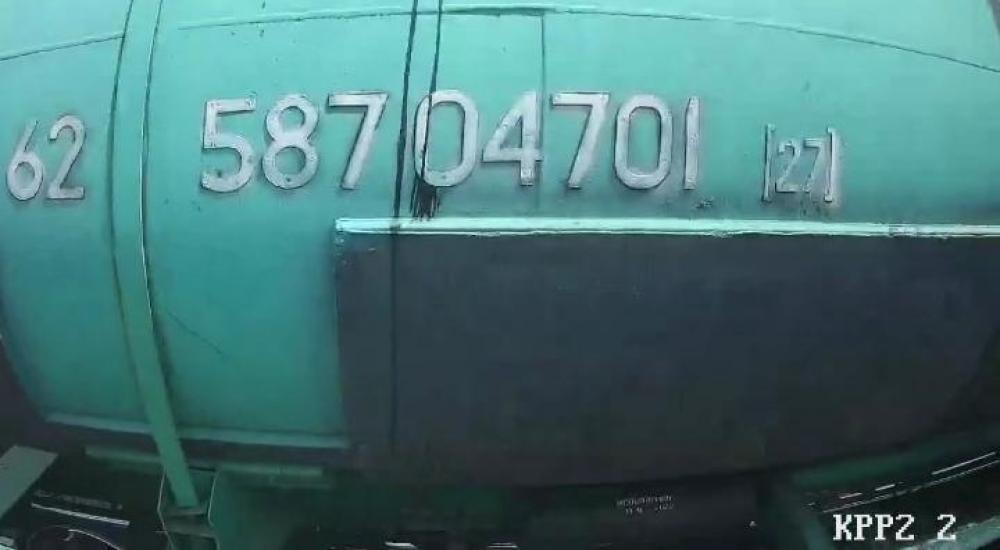Wagon-number: (196, 87, 706, 202)
